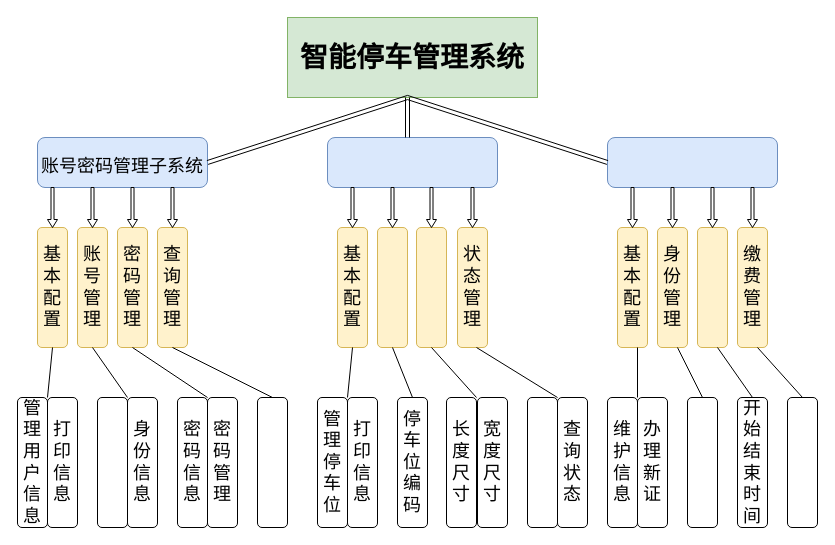
The diagram is 835 pixels wide and 545 high, and some of its shapes have lost their labels. The shapes that lost their labels are listed below. From the top down, each one's centre as x and y in pixels, then its label:
point (412, 162): 停车位管理子系统
point (692, 162): 车主管理子系统
point (392, 287): 编码管理
point (431, 287): 尺寸管理
point (712, 287): 计时管理
point (112, 462): 用户名信息
point (272, 462): 智能查询
point (542, 462): 更改状态
point (702, 462): 身份类型
point (802, 462): 缴费金额
